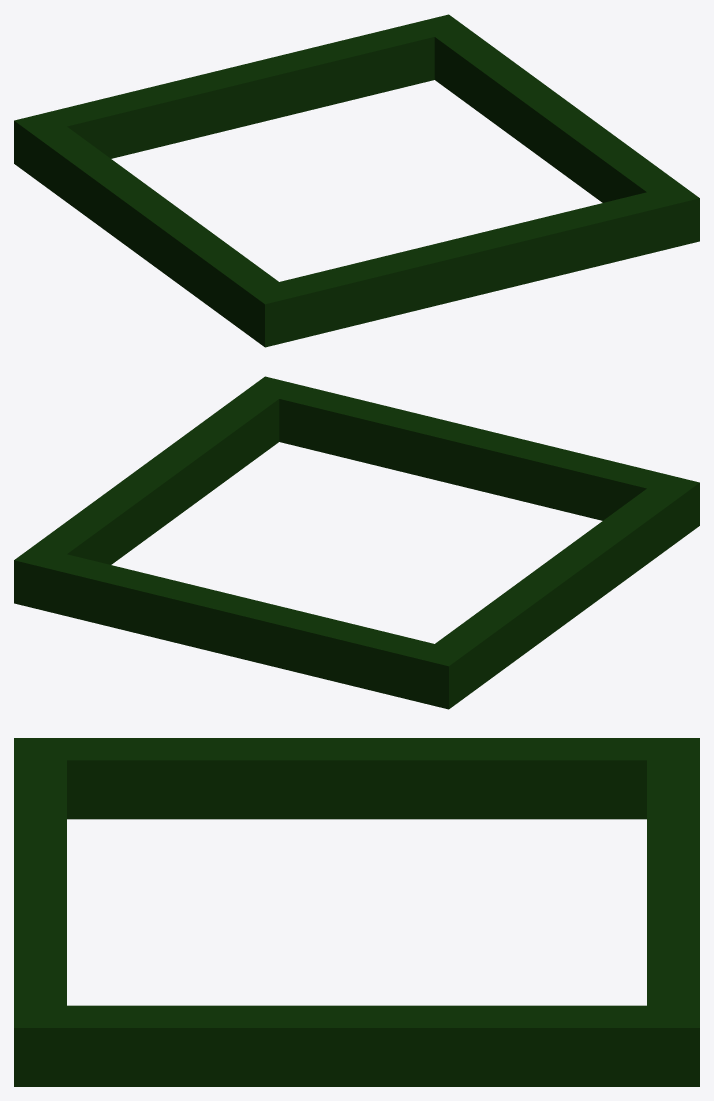
The model's file is WaterContainerRimModel.fbx.
The picture shows the model from 3 angles, top to bottom: view 1: azimuth 30°, elevation 25°; view 2: azimuth 150°, elevation 25°; view 3: azimuth 270°, elevation 25°; orthographic projection. The views are drawn at different scales.
Visible parts, largest first — view 1: Cube; view 2: Cube; view 3: Cube.
Part boxes in pixels (x1=…): Cube: x1=14, y1=14, x2=699, y2=347; Cube: x1=14, y1=376, x2=699, y2=709; Cube: x1=14, y1=738, x2=699, y2=1086.
Bounding box in the file's own units: 200 × 18.97 × 200.
